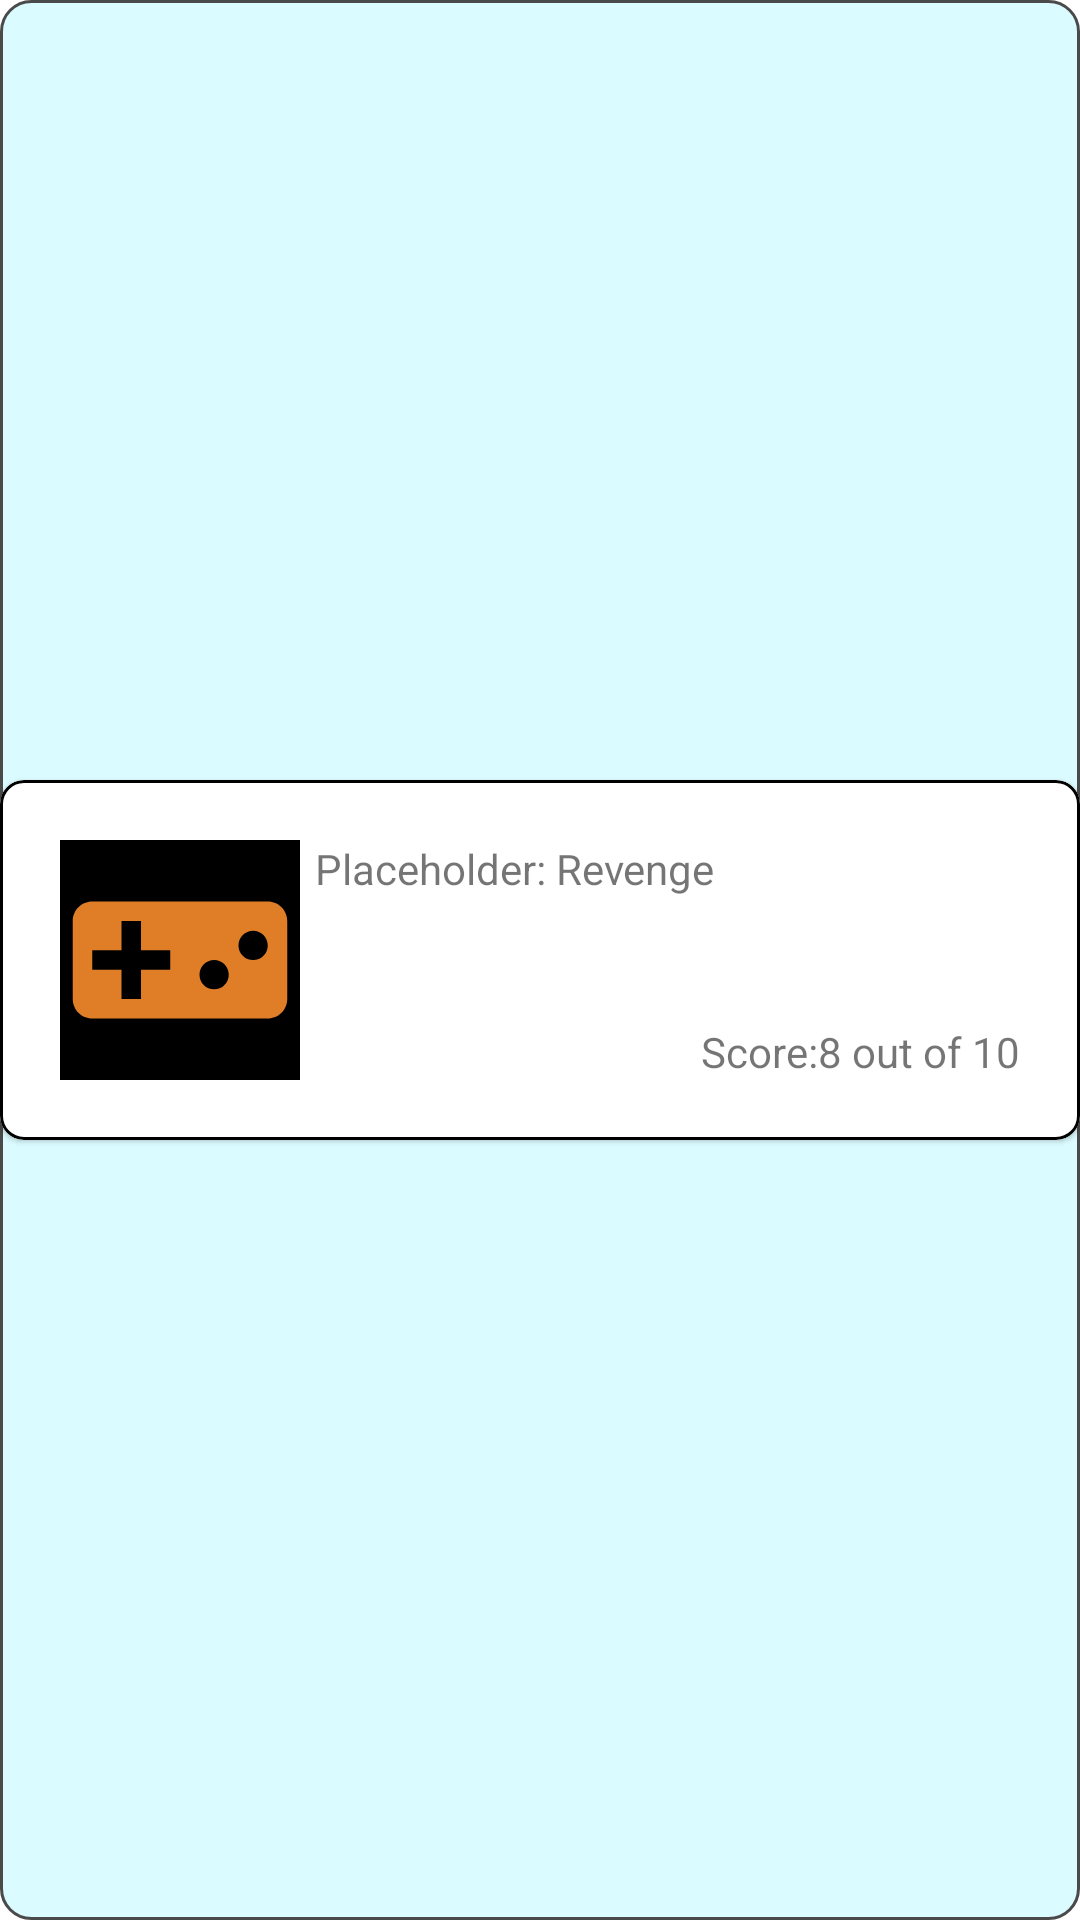

Where to tap for icons on this 1080w x 1920h app screen, as (x=x, y=y):
Cover of the game: (x=180, y=960)
